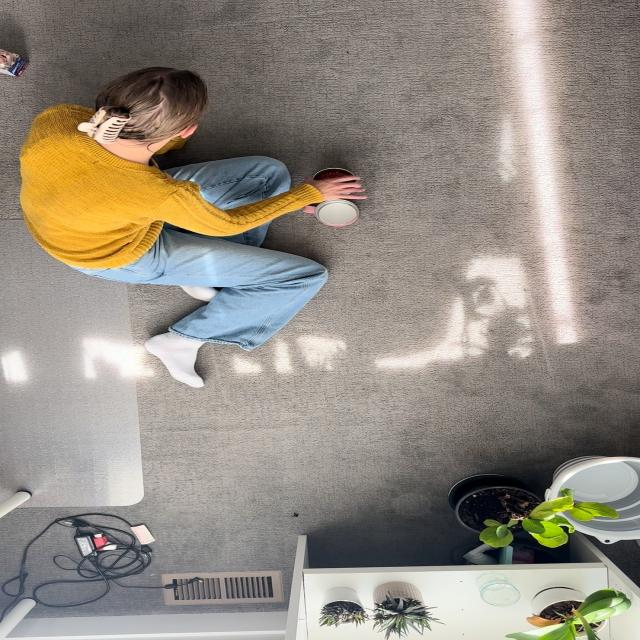IBC: (315, 200, 359, 226), (315, 168, 353, 180)
